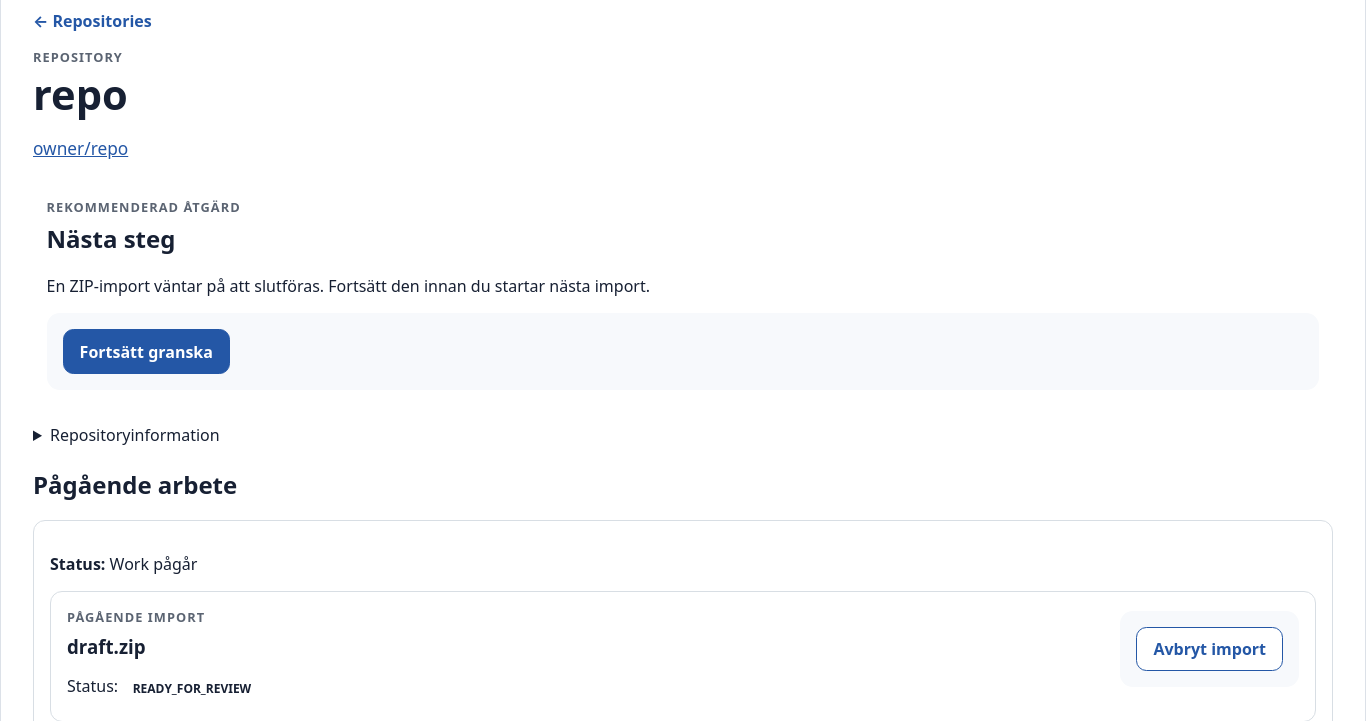
Test case: ProjectDetailPage progressive disclosure › puts next step before repository metadata and keeps technical Work details collapsed by default
Click the heading "Repositoryinformation" at (135, 435), box [50,424,220,446]
(page scrolled)
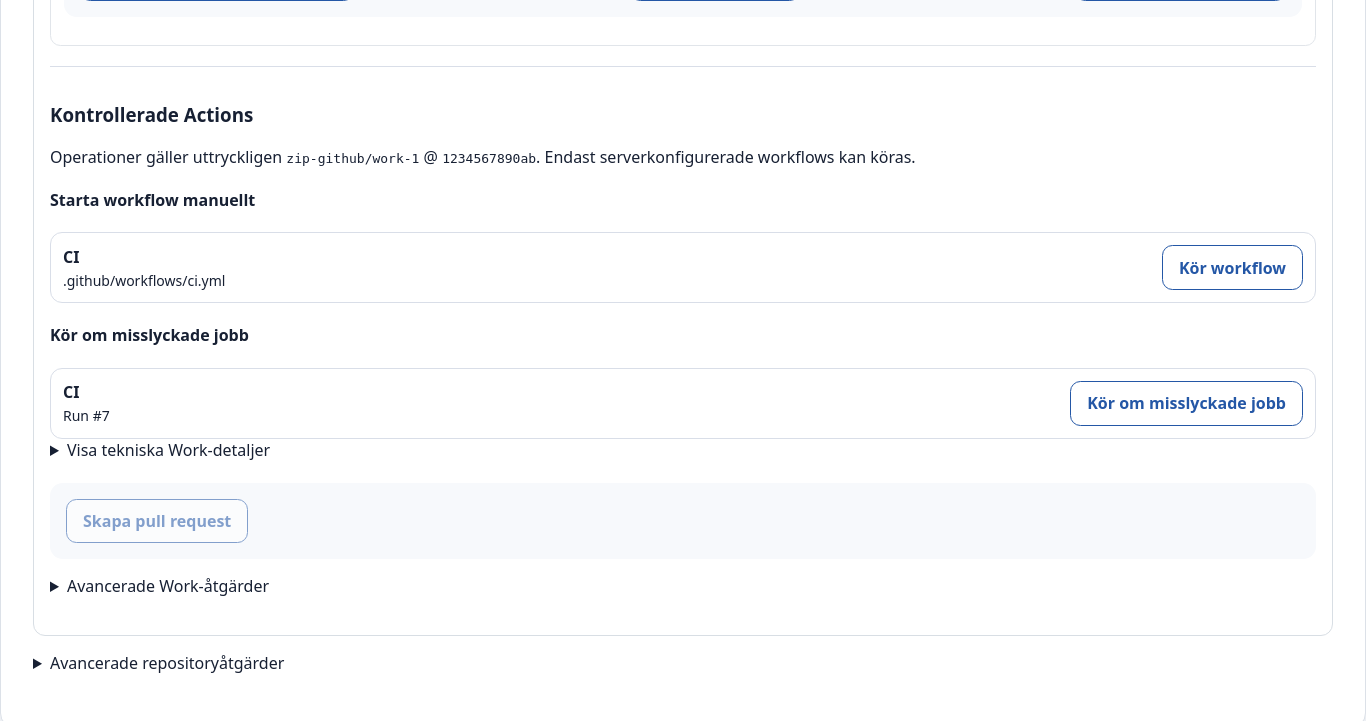
Click the heading "Visa tekniska Work-detaljer" at (169, 450), box [67,438,270,460]
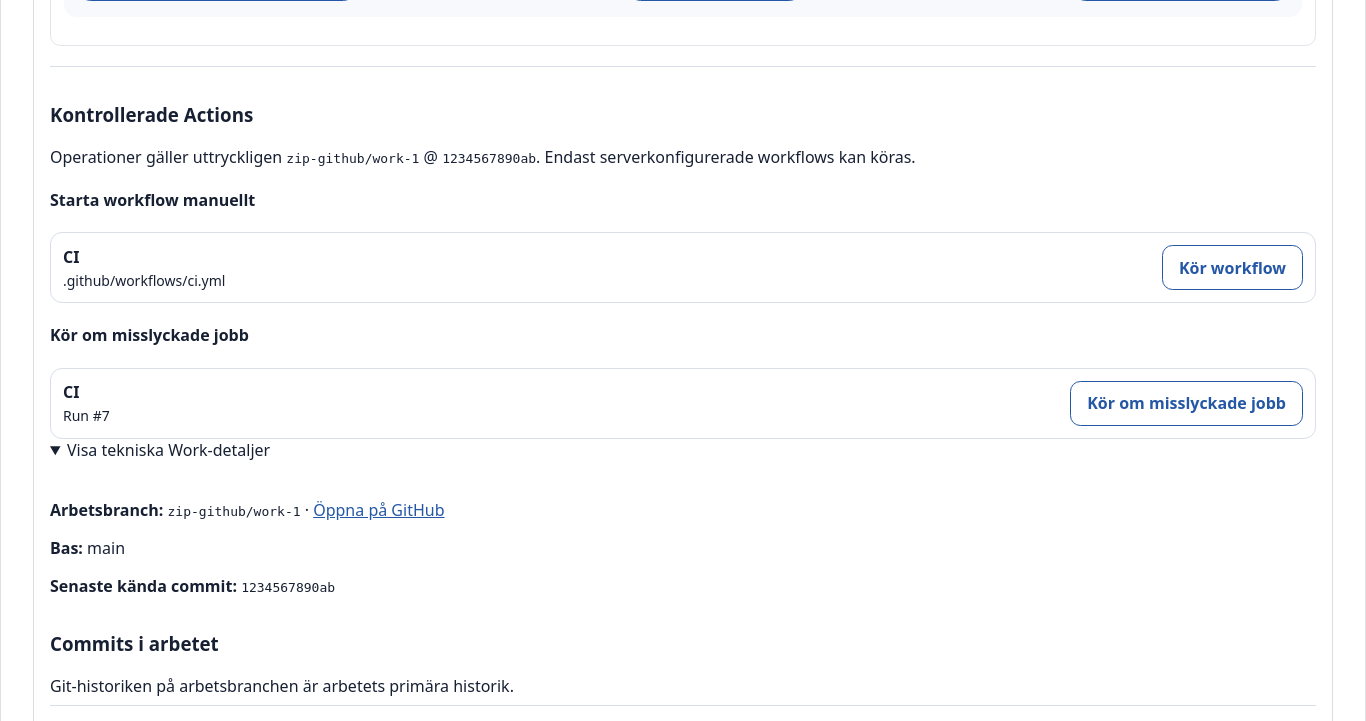
Check: the heading "Commits i arbetet" is shown, box [50,631,219,656]
Check: the text "zip-github/work-1" next to "Arbetsbranch:" is shown, box [168,504,301,518]
